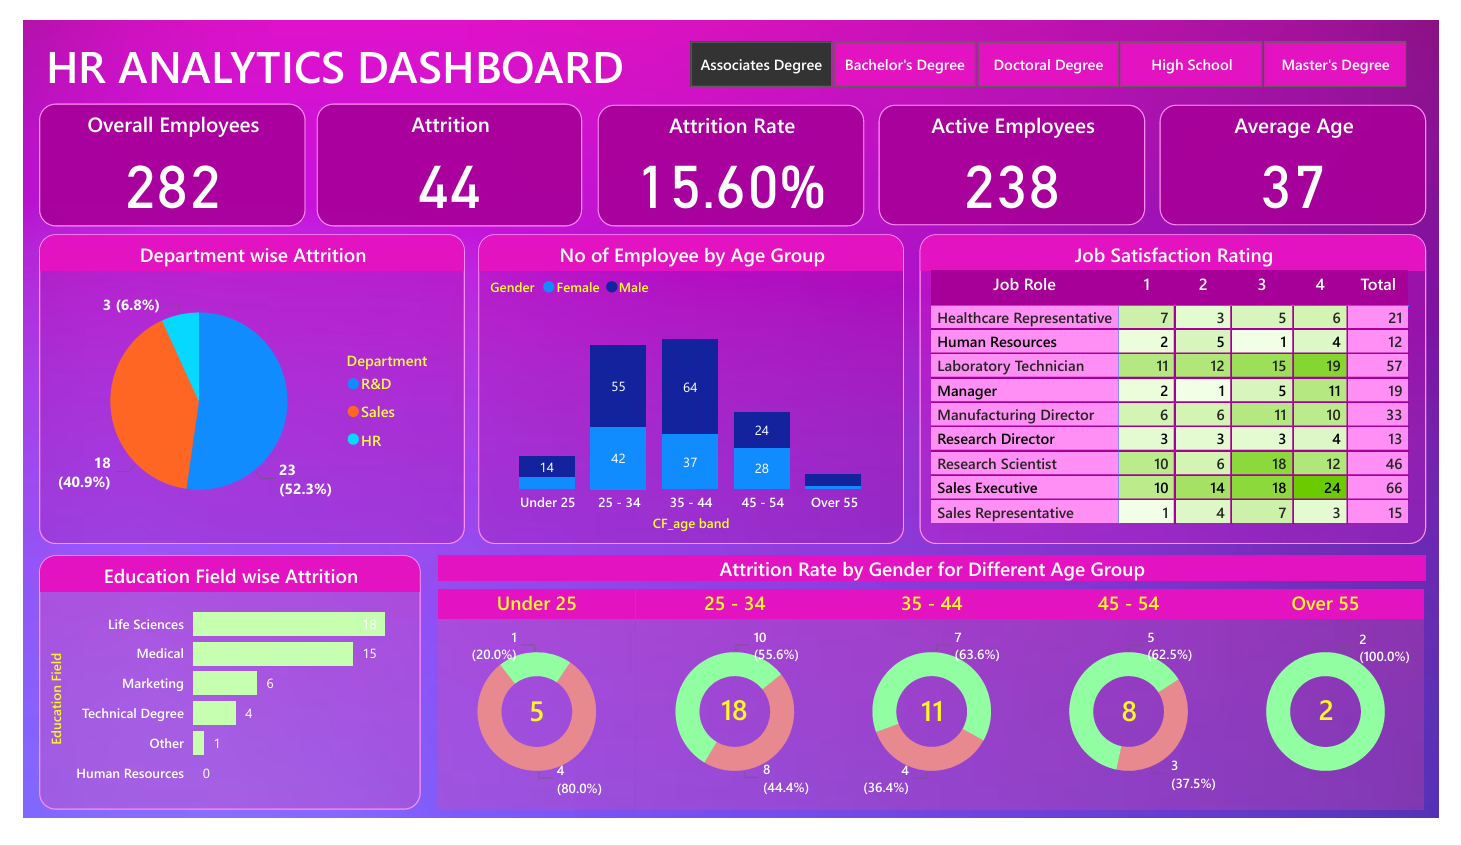

Layout of this report page (visuals, bound fields, positions):
{"tool":"powerbi","page":{"name":"Page 1","canvas":[1280,720],"ordinal":0},"visuals":[{"type":"card","title":"Overall Employees","fields":{"Values":["Sum(HR data.Employee Count)"]},"box":[14.3,75.3,240.3,110.4],"z":0},{"type":"card","title":"Attrition","fields":{"Values":["Sum(HR data.Attrition Count)"]},"box":[264.9,75.3,240.3,110.4],"z":1000},{"type":"card","title":"Attrition Rate","fields":{"Values":["HR data.Attrition Rate"]},"box":[518.6,75.7,241.4,110],"z":2000},{"type":"card","title":"Active Employees","fields":{"Values":["HR data.Active Employees"]},"box":[773.4,75.5,240.4,109.6],"z":3000},{"type":"card","title":"Average Age","fields":{"Values":["Avg(HR data.Age)"]},"box":[1026.6,75.5,241.5,109.6],"z":4000},{"type":"pieChart","title":"Department wise Attrition ","fields":{"Category":["HR data.Department"],"Y":["Sum(HR data.Attrition Count)"]},"box":[14.5,193,384.9,279.9],"z":5000},{"type":"columnChart","title":"No of Employee by Age Group","fields":{"Category":["HR data.CF_age band"],"Y":["Sum(HR data.Employee Count)"],"Series":["HR data.Gender"]},"box":[411.4,193,384.9,279.9],"z":6000},{"type":"pivotTable","title":"Job Satisfaction Rating","fields":{"Rows":["HR data.Job Role"],"Columns":["HR data.Job Satisfaction"],"Values":["Sum(HR data.Employee Count)"]},"box":[809.5,193,458.4,279.9],"z":7000},{"type":"barChart","title":"Education Field wise Attrition","fields":{"Category":["HR data.Education Field"],"Y":["Sum(HR data.Attrition Count)"]},"box":[14,483,345,230],"z":8000},{"type":"donutChart","title":"Under 25","fields":{"Category":["HR data.Gender"],"Y":["Sum(HR data.Attrition Count)"],"Series":["HR data.CF_age band"]},"box":[375.2,513.9,178,199.1],"z":9000},{"type":"textbox","title":"Attrition Rate by Gender for Different Age Group","box":[375,482.5,892.5,23.8],"z":10000},{"type":"donutChart","title":"25 - 34","fields":{"Category":["HR data.Gender"],"Y":["Sum(HR data.Attrition Count)"],"Series":["HR data.CF_age band"]},"box":[553.6,513.6,178.2,199.1],"z":11000},{"type":"donutChart","title":"35 - 44","fields":{"Category":["HR data.Gender"],"Y":["Sum(HR data.Attrition Count)"],"Series":["HR data.CF_age band"]},"box":[731.8,513.6,178.2,199.1],"z":12000},{"type":"donutChart","title":"45 - 54","fields":{"Category":["HR data.Gender"],"Y":["Sum(HR data.Attrition Count)"],"Series":["HR data.CF_age band"]},"box":[910,513.6,178.2,199.1],"z":13000},{"type":"donutChart","title":"Over 55","fields":{"Category":["HR data.Gender"],"Y":["Sum(HR data.Attrition Count)"],"Series":["HR data.CF_age band"]},"box":[1088.2,513.6,178.2,199.1],"z":14000},{"type":"card","fields":{"Values":["Sum(HR data.Attrition Count)"]},"box":[441.3,608.7,45.3,30],"z":14001},{"type":"card","fields":{"Values":["Sum(HR data.Attrition Count)"]},"box":[620,608,45.3,30],"z":14002},{"type":"card","fields":{"Values":["Sum(HR data.Attrition Count)"]},"box":[798.7,608.7,45.3,30],"z":14003},{"type":"card","fields":{"Values":["Sum(HR data.Attrition Count)"]},"box":[976.7,609.3,45.3,30],"z":14004},{"type":"card","fields":{"Values":["Sum(HR data.Attrition Count)"]},"box":[1154.7,608,45.3,30],"z":14005},{"type":"textbox","title":"HR ANALYTICS DASHBOARD","box":[15,12.5,555,52.5],"z":14006},{"type":"slicer","fields":{"Values":["HR data.Education"]},"box":[576.8,12.4,697.2,54.8],"z":14007}]}

Visuals, with their boxes in screenshot pixels (x1, y1, x2, y2), scaled from the page's 1280x720 canvas onto the 1461x846 screenshot:
"Overall Employees" card: Rect(16, 88, 291, 218)
"Attrition" card: Rect(302, 88, 577, 218)
"Attrition Rate" card: Rect(592, 89, 867, 218)
"Active Employees" card: Rect(883, 89, 1157, 217)
"Average Age" card: Rect(1172, 89, 1447, 217)
"Department wise Attrition " pieChart: Rect(17, 227, 456, 556)
"No of Employee by Age Group" columnChart: Rect(470, 227, 909, 556)
"Job Satisfaction Rating" pivotTable: Rect(924, 227, 1447, 556)
"Education Field wise Attrition" barChart: Rect(16, 568, 410, 838)
"Under 25" donutChart: Rect(428, 604, 631, 838)
"Attrition Rate by Gender for Different Age Group" textbox: Rect(428, 567, 1447, 595)
"25 - 34" donutChart: Rect(632, 603, 835, 837)
"35 - 44" donutChart: Rect(835, 603, 1039, 837)
"45 - 54" donutChart: Rect(1039, 603, 1242, 837)
"Over 55" donutChart: Rect(1242, 603, 1445, 837)
card - Sum(HR data.Attrition Count): Rect(504, 715, 555, 750)
card - Sum(HR data.Attrition Count): Rect(708, 714, 759, 750)
card - Sum(HR data.Attrition Count): Rect(912, 715, 963, 750)
card - Sum(HR data.Attrition Count): Rect(1115, 716, 1167, 751)
card - Sum(HR data.Attrition Count): Rect(1318, 714, 1370, 750)
"HR ANALYTICS DASHBOARD" textbox: Rect(17, 15, 651, 76)
slicer - HR data.Education: Rect(658, 15, 1454, 79)
